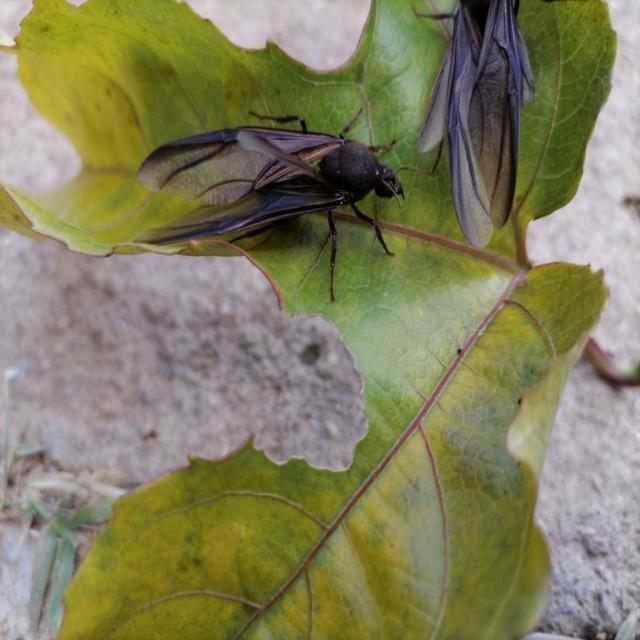Alive-Female-Alate: (133, 107, 435, 304), (412, 0, 538, 249)
